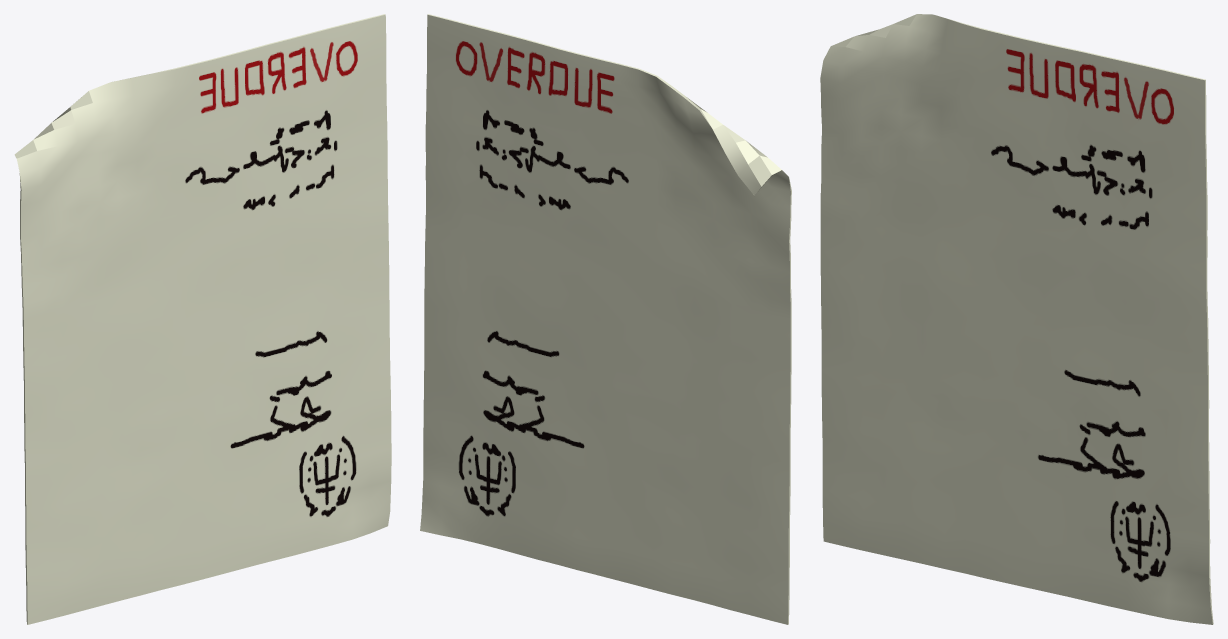
File: bill_paper.fbx
3 renders of one model, left to right at view 1: azimuth 30°, elevation 25°; view 2: azimuth 150°, elevation 25°; view 3: azimuth 330°, elevation 25°, orthographic. The views are drawn at different scales.
Visible parts, largest first — view 1: Plane.306; view 2: Plane.306; view 3: Plane.306.
Boxes of the visible parts, left/top/right/bottom form: Plane.306: left=14, top=14, right=391, bottom=624; Plane.306: left=420, top=14, right=791, bottom=624; Plane.306: left=820, top=14, right=1213, bottom=624.
Bounding box in the file's own units: 2.24 × 3.04 × 0.2131.
Materials: 1 (1 with a texture image).
